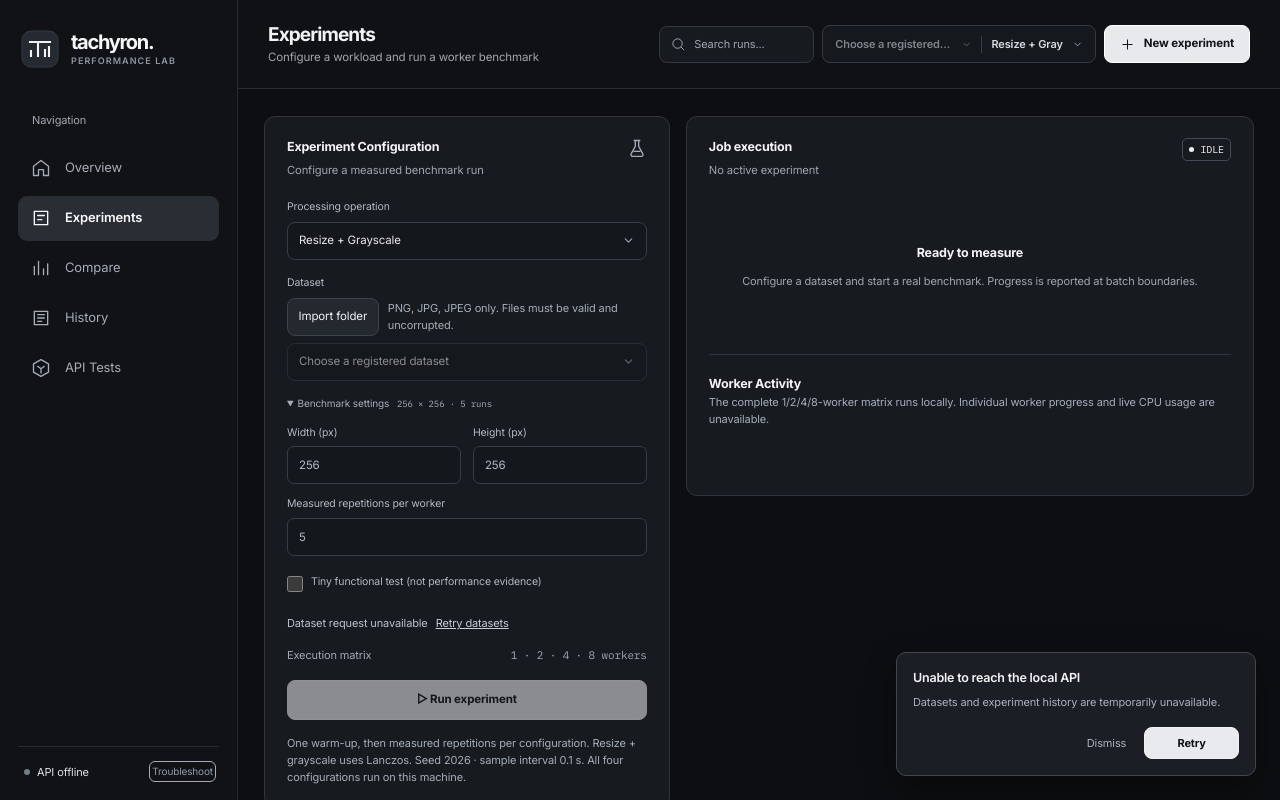
Test: opens troubleshooting over the current view, retries with the shared health owner and restores focus
Press Enter
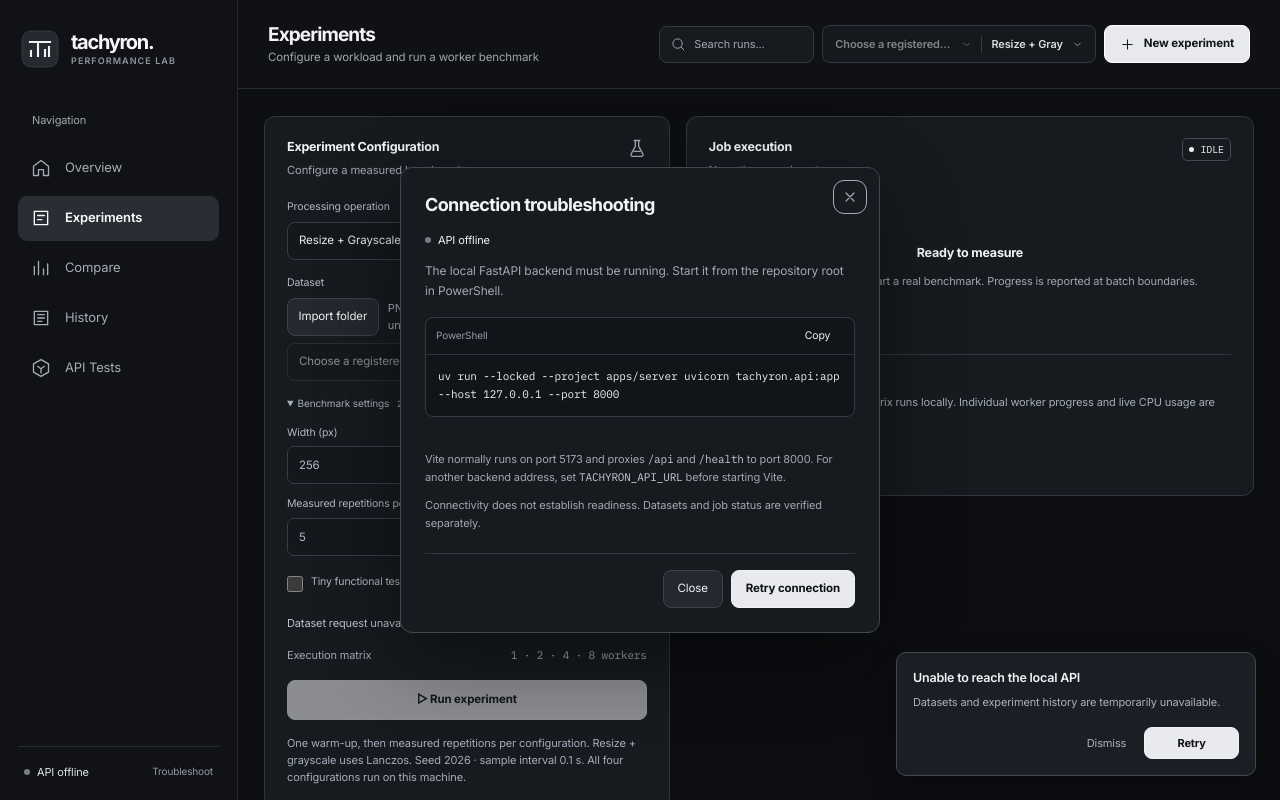
Type keys "{Shift>}{Tab}{/Shift}"
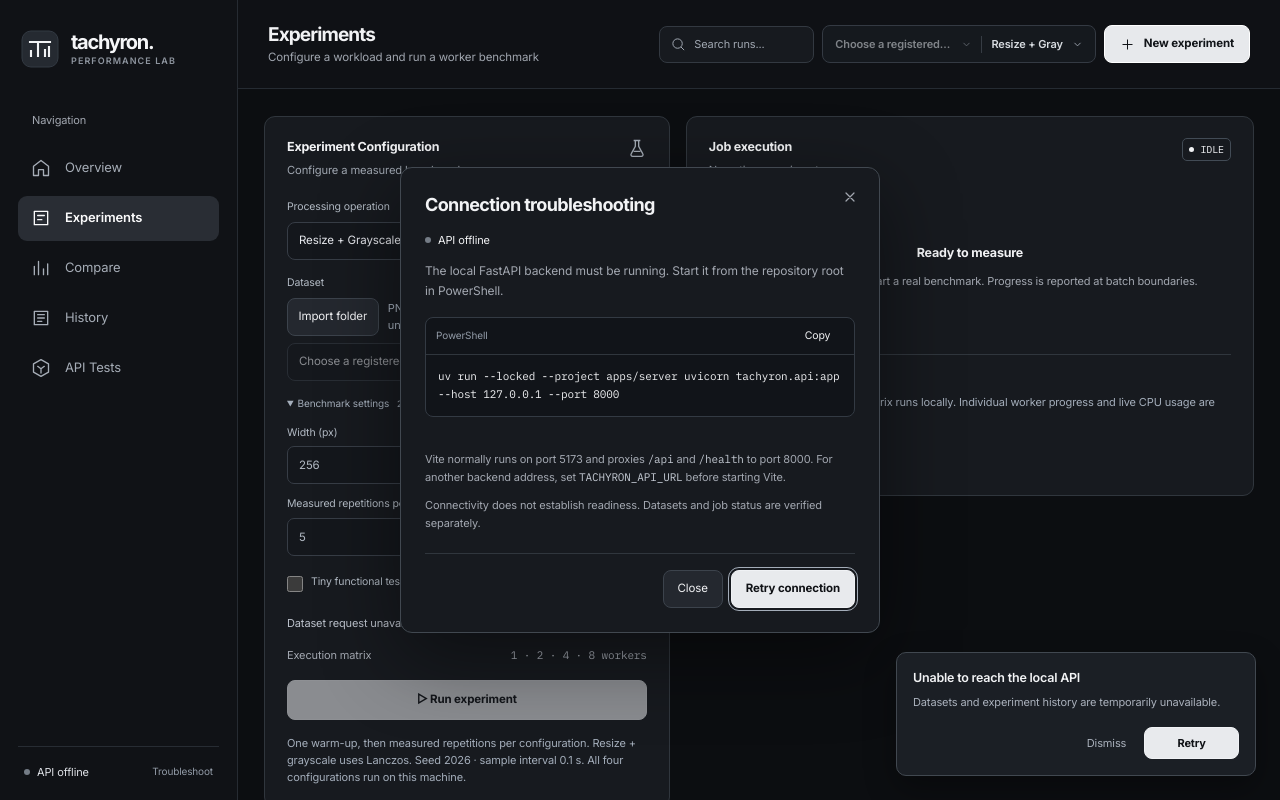
Press Tab
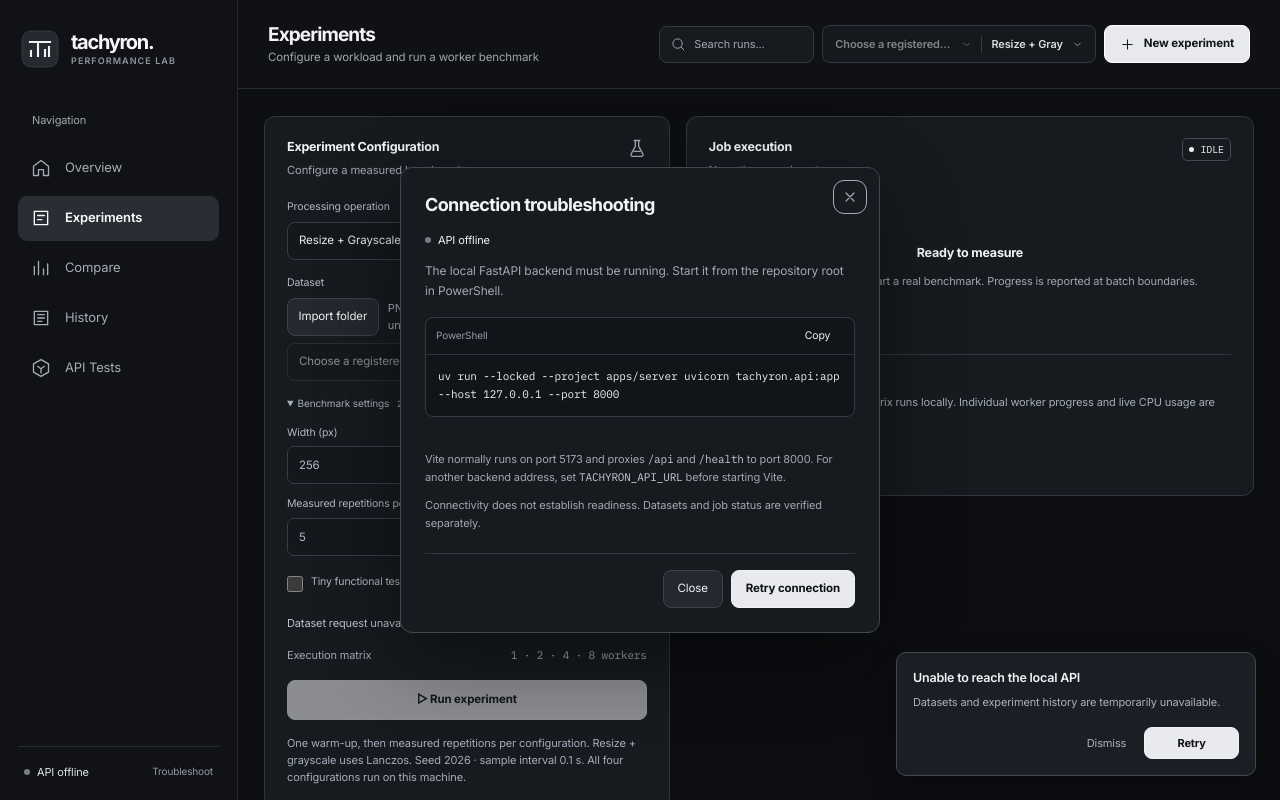
Result: the dialog "Connection troubleshooting" is shown at [400,167,880,632]
Result: the text "normally runs on port 5173" shows "8000" at [425,452,833,484]
Result: the text "TACHYRON_API_URL" is shown at [579,470,683,484]
Click the button "Retry connection": (793, 589) [731,570,855,608]
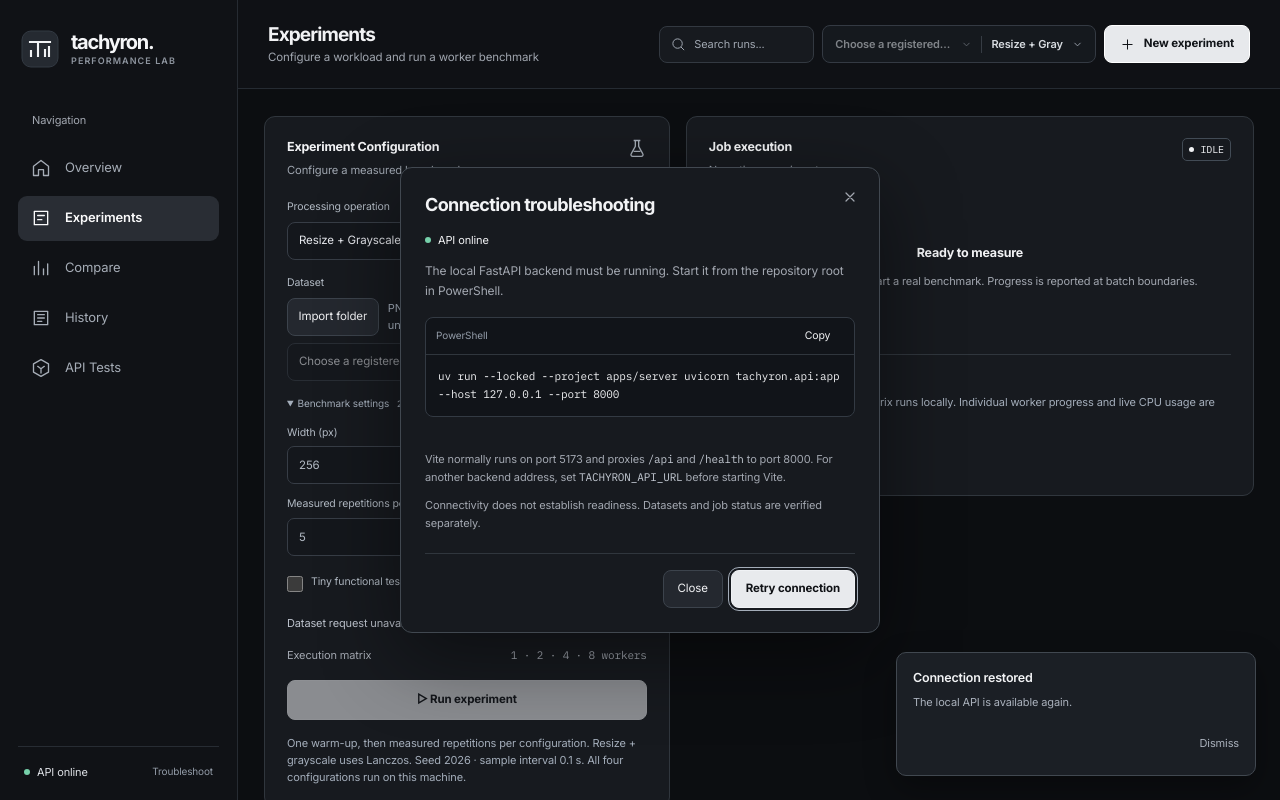
Result: the button with aria-label "Recheck API connection" reads "API online" at [24,764,88,780]
Result: the text "API online" below "Connection troubleshooting" is shown at [438,232,489,246]
Click the button "Close": (693, 589) [662,570,723,608]
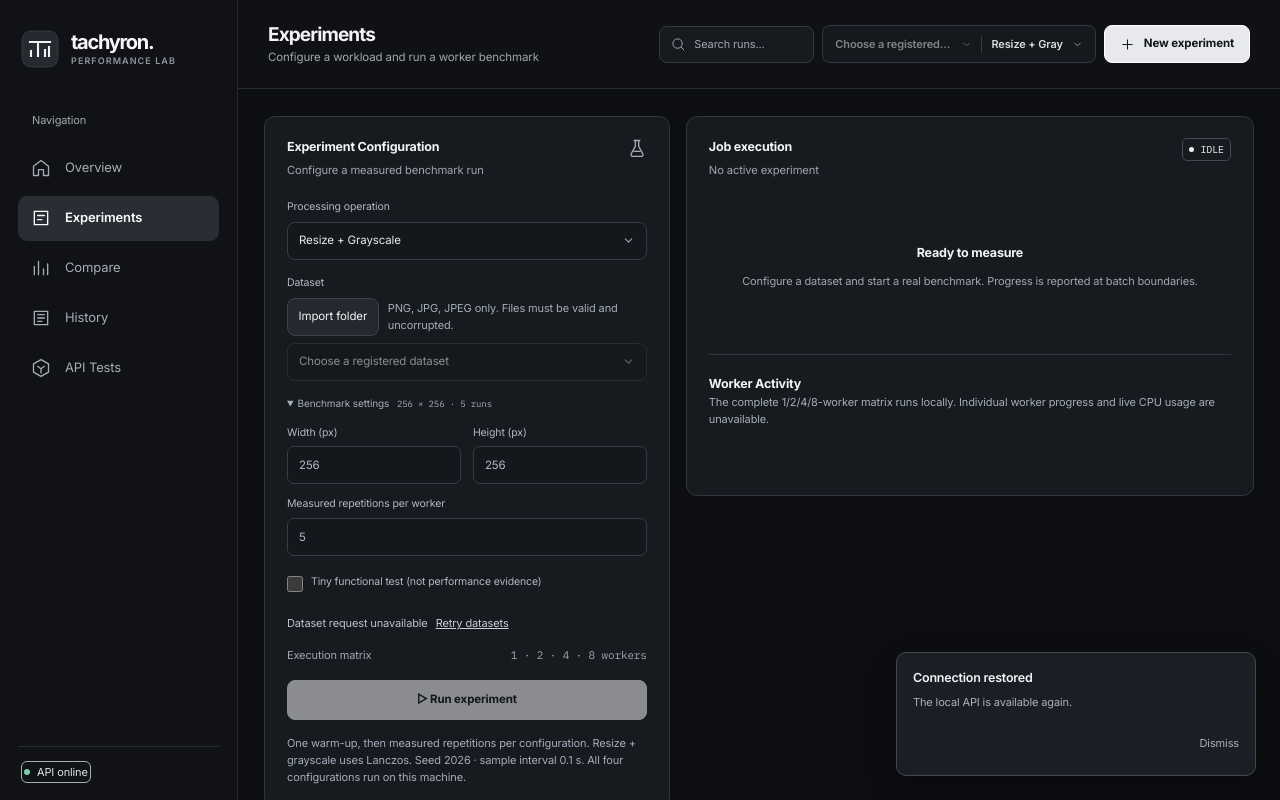
Result: the dialog is gone
Result: the button "Troubleshoot" is gone
